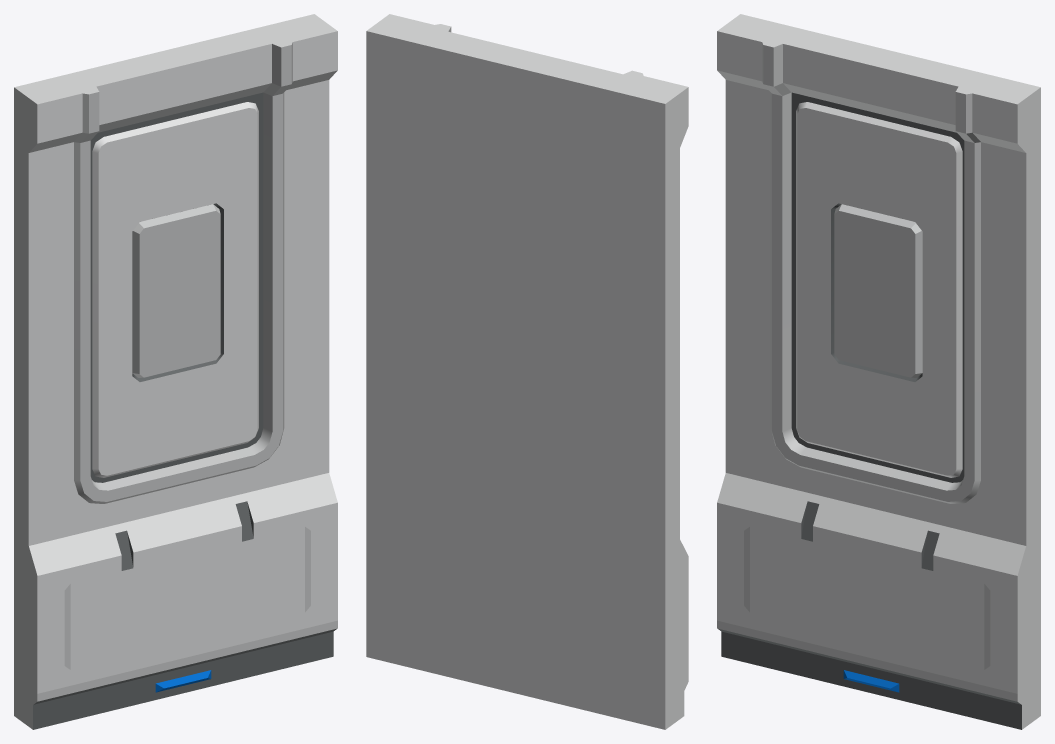
Rendered from Wall_type_A_022.fbx.
3 views of the same model, side by side, from view 1: azimuth 30°, elevation 25°; view 2: azimuth 150°, elevation 25°; view 3: azimuth 330°, elevation 25° (orthographic).
Parts seen in each view (by area): view 1: Wall_type_A_022; view 2: Wall_type_A_022; view 3: Wall_type_A_022.
Part boxes in pixels (x1,y1,x2,y2): Wall_type_A_022: (14,14,337,729); Wall_type_A_022: (366,14,688,729); Wall_type_A_022: (717,14,1040,729).
Bounding box in the file's own units: 200 × 29.98 × 400.
